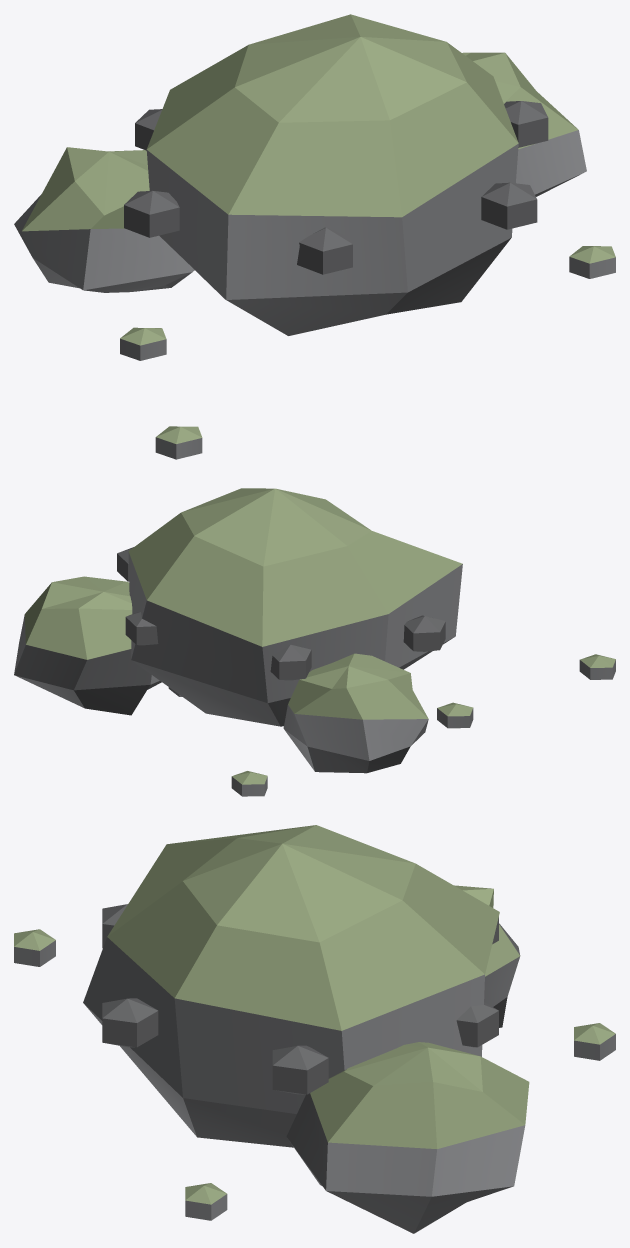
Rendered from Ore_Used.fbx.
The picture shows the model from 3 angles, top to bottom: view 1: azimuth 30°, elevation 25°; view 2: azimuth 150°, elevation 25°; view 3: azimuth 270°, elevation 25°; orthographic projection. The views are drawn at different scales.
Visible parts, largest first — view 1: Res_Ore_Used; view 2: Res_Ore_Used; view 3: Res_Ore_Used.
Boxes of the visible parts, x1=… form: Res_Ore_Used: x1=14, y1=14, x2=615, y2=459; Res_Ore_Used: x1=14, y1=488, x2=615, y2=796; Res_Ore_Used: x1=14, y1=825, x2=615, y2=1233.
Size of the model in its own units: 1.57 by 0.7072 by 1.35.
